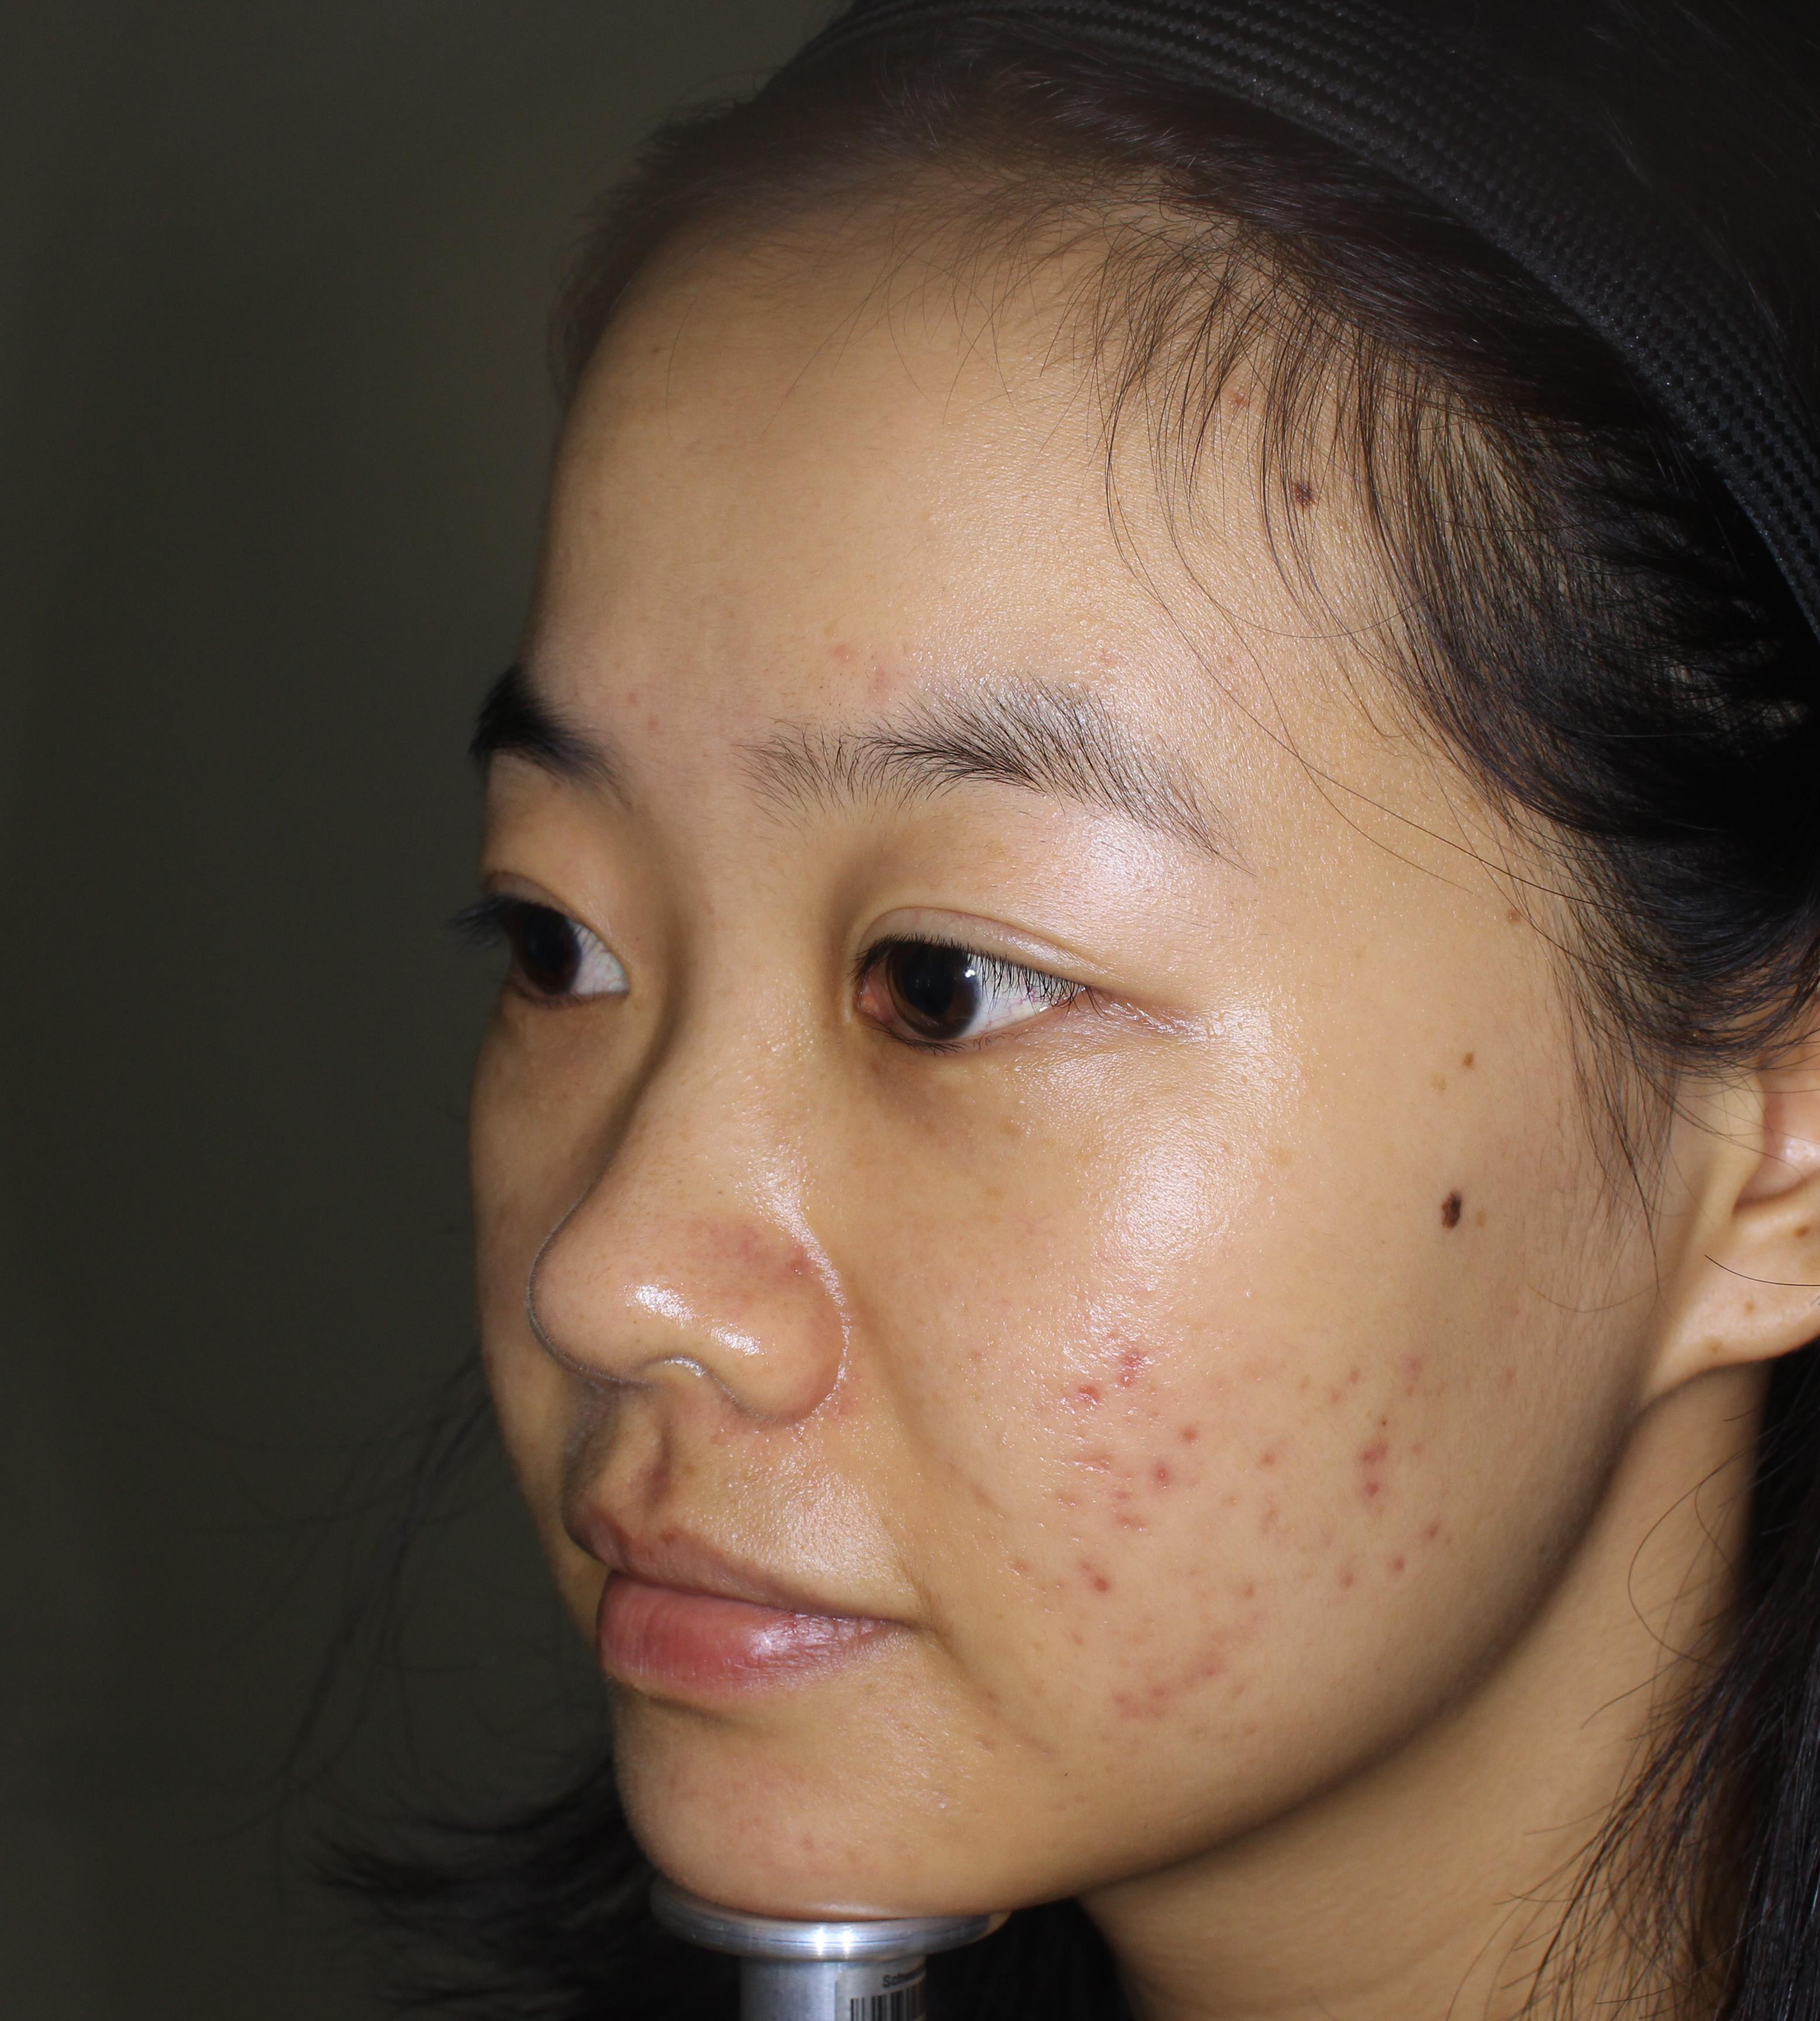fore: (1158, 1635, 1247, 1737), (1072, 1531, 1144, 1626), (1103, 1410, 1184, 1491), (1031, 1343, 1109, 1428), (1360, 1428, 1412, 1528), (1363, 1338, 1444, 1401)
